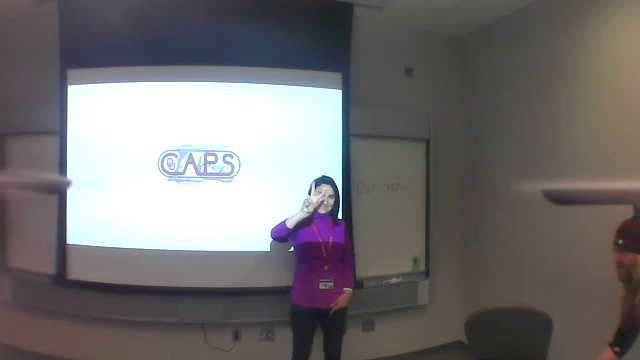peace: (299, 180, 331, 217)
